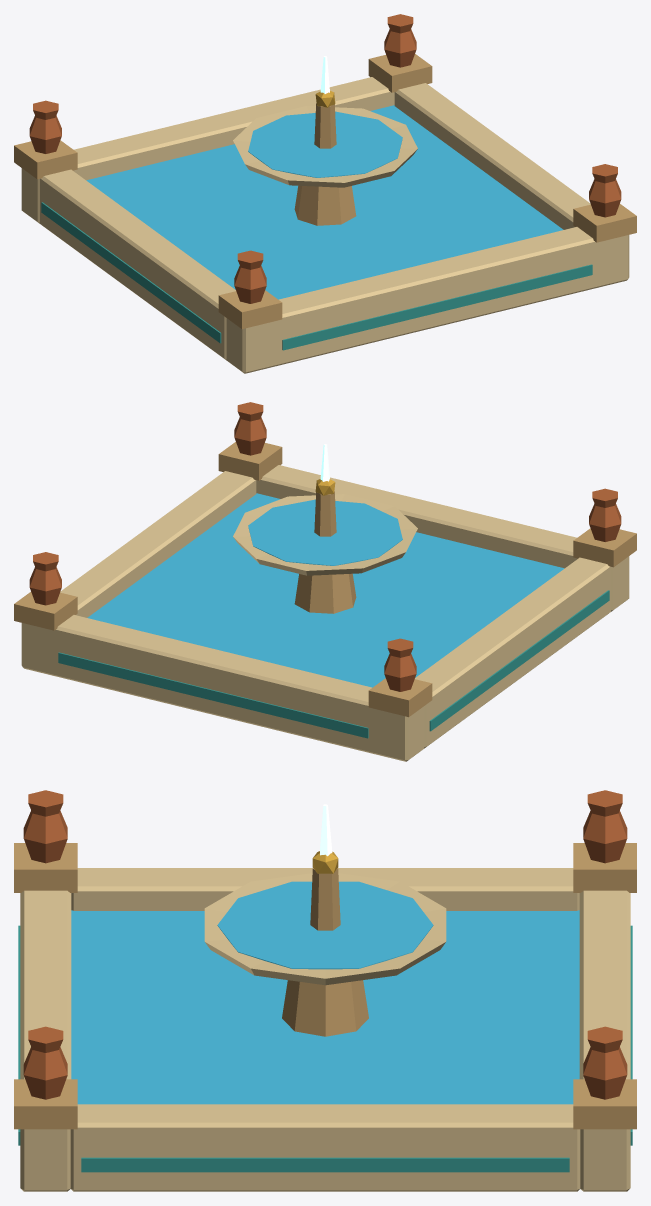
File: desert_fountain.glb
3 views of the same model, one above another, from view 1: azimuth 30°, elevation 25°; view 2: azimuth 150°, elevation 25°; view 3: azimuth 270°, elevation 25° (orthographic). The views are drawn at different scales.
Visible parts, largest first — view 1: desert_fountain; view 2: desert_fountain; view 3: desert_fountain.
Boxes of the visible parts, <box> form: desert_fountain: <box>14,14,636,373</box>; desert_fountain: <box>14,402,636,761</box>; desert_fountain: <box>14,790,636,1191</box>.
Bounding box in the file's own units: 4.9 × 2.25 × 4.9.
